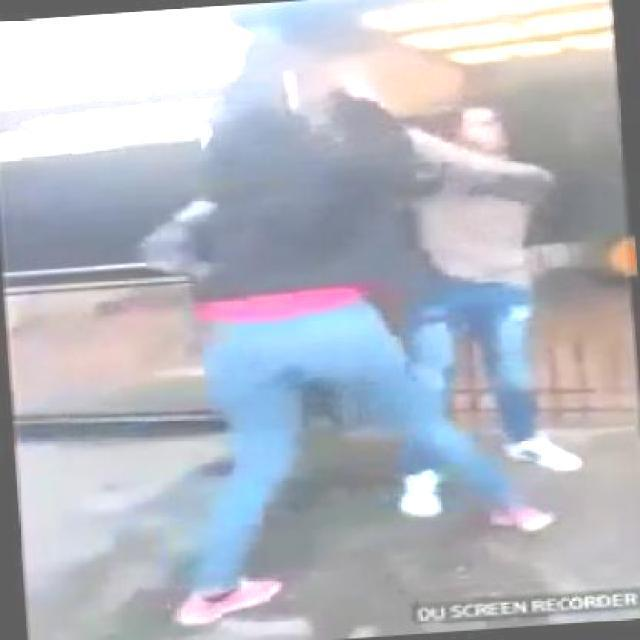fight: (162, 82, 568, 588)
